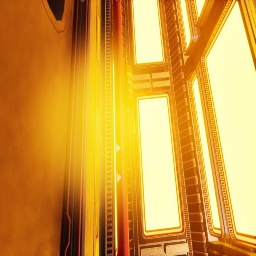FireExtinguisher ]: (123, 53, 135, 140)
